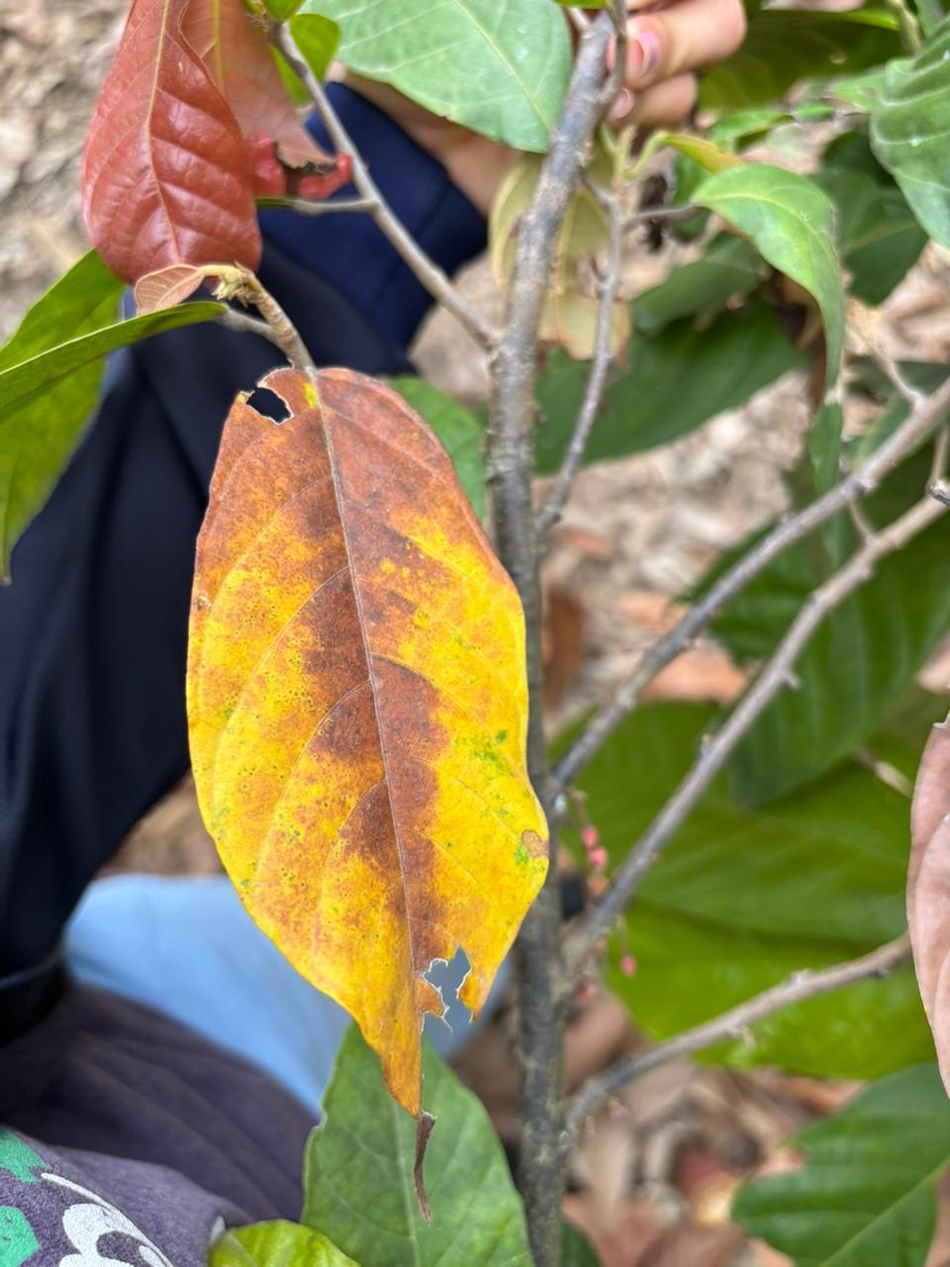deficienciia_fosforo: (187, 368, 546, 1121)
